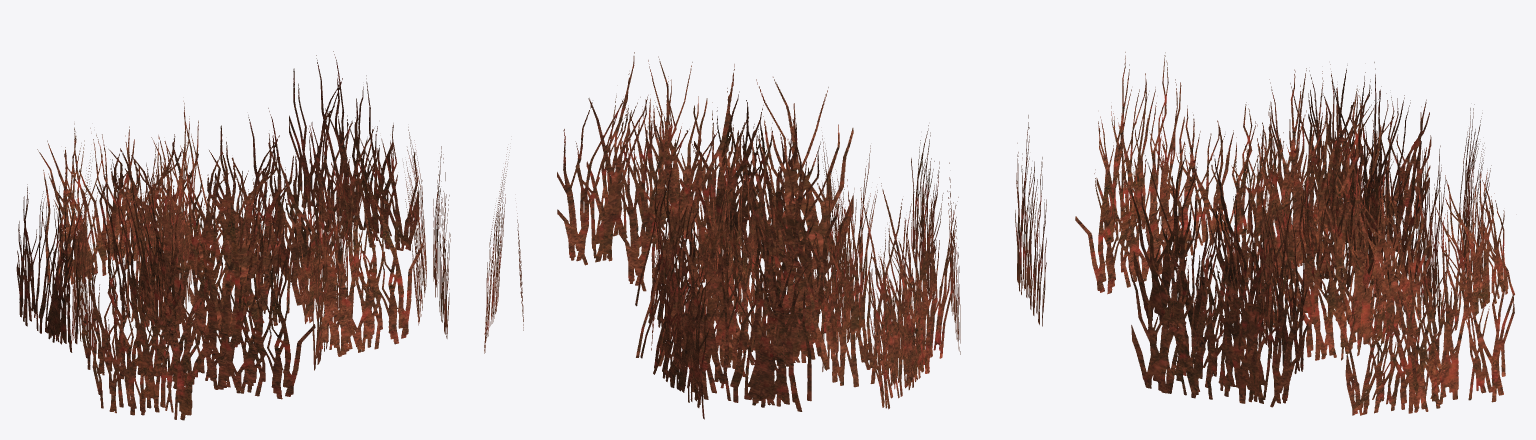
The model's file is grass_3d_03_red.glb.
The picture shows the model from 3 angles, left to right: view 1: azimuth 30°, elevation 25°; view 2: azimuth 150°, elevation 25°; view 3: azimuth 270°, elevation 25°; orthographic projection. The views are drawn at different scales.
Visible parts, largest first — view 1: grass_cards; view 2: grass_cards; view 3: grass_cards.
Boxes of the visible parts, x1=… form: grass_cards: x1=16, y1=51, x2=450, y2=420; grass_cards: x1=484, y1=52, x2=1046, y2=419; grass_cards: x1=1075, y1=52, x2=1514, y2=415.
Size of the model in its own units: 1.11 by 0.5631 by 0.9892.
Materials: 1 (1 with a texture image).
